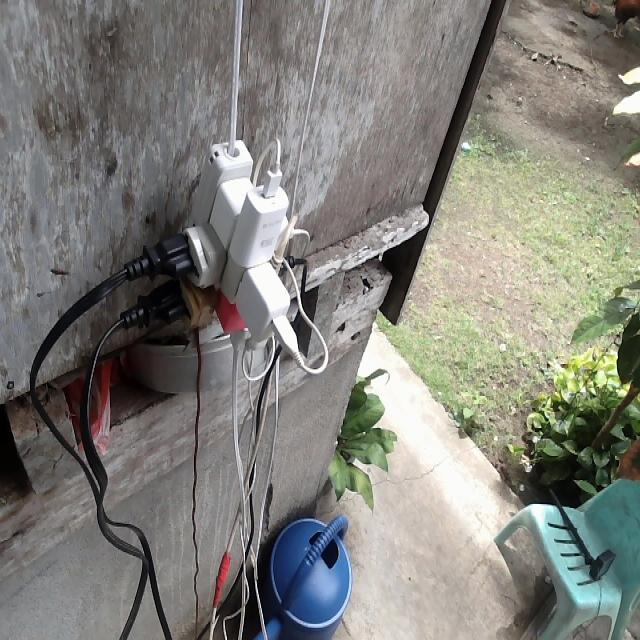-: (125, 136, 309, 368)
